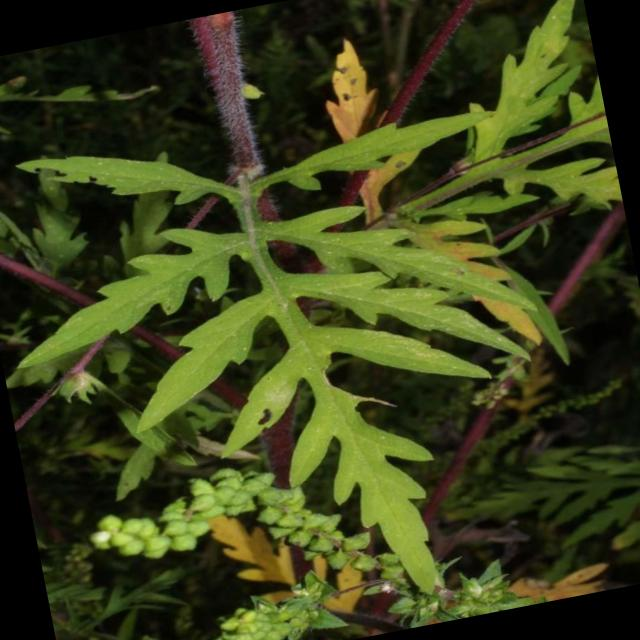ambrosia: (33, 77, 540, 622)
